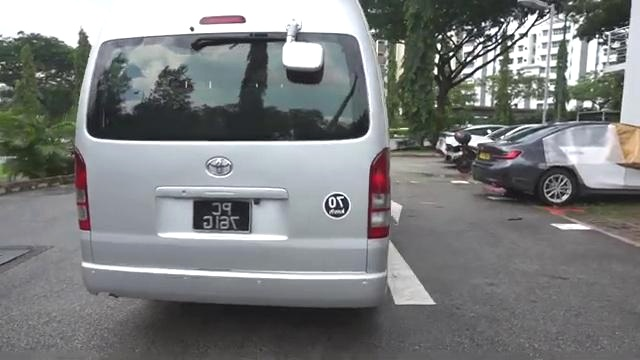van: (73, 2, 391, 308)
